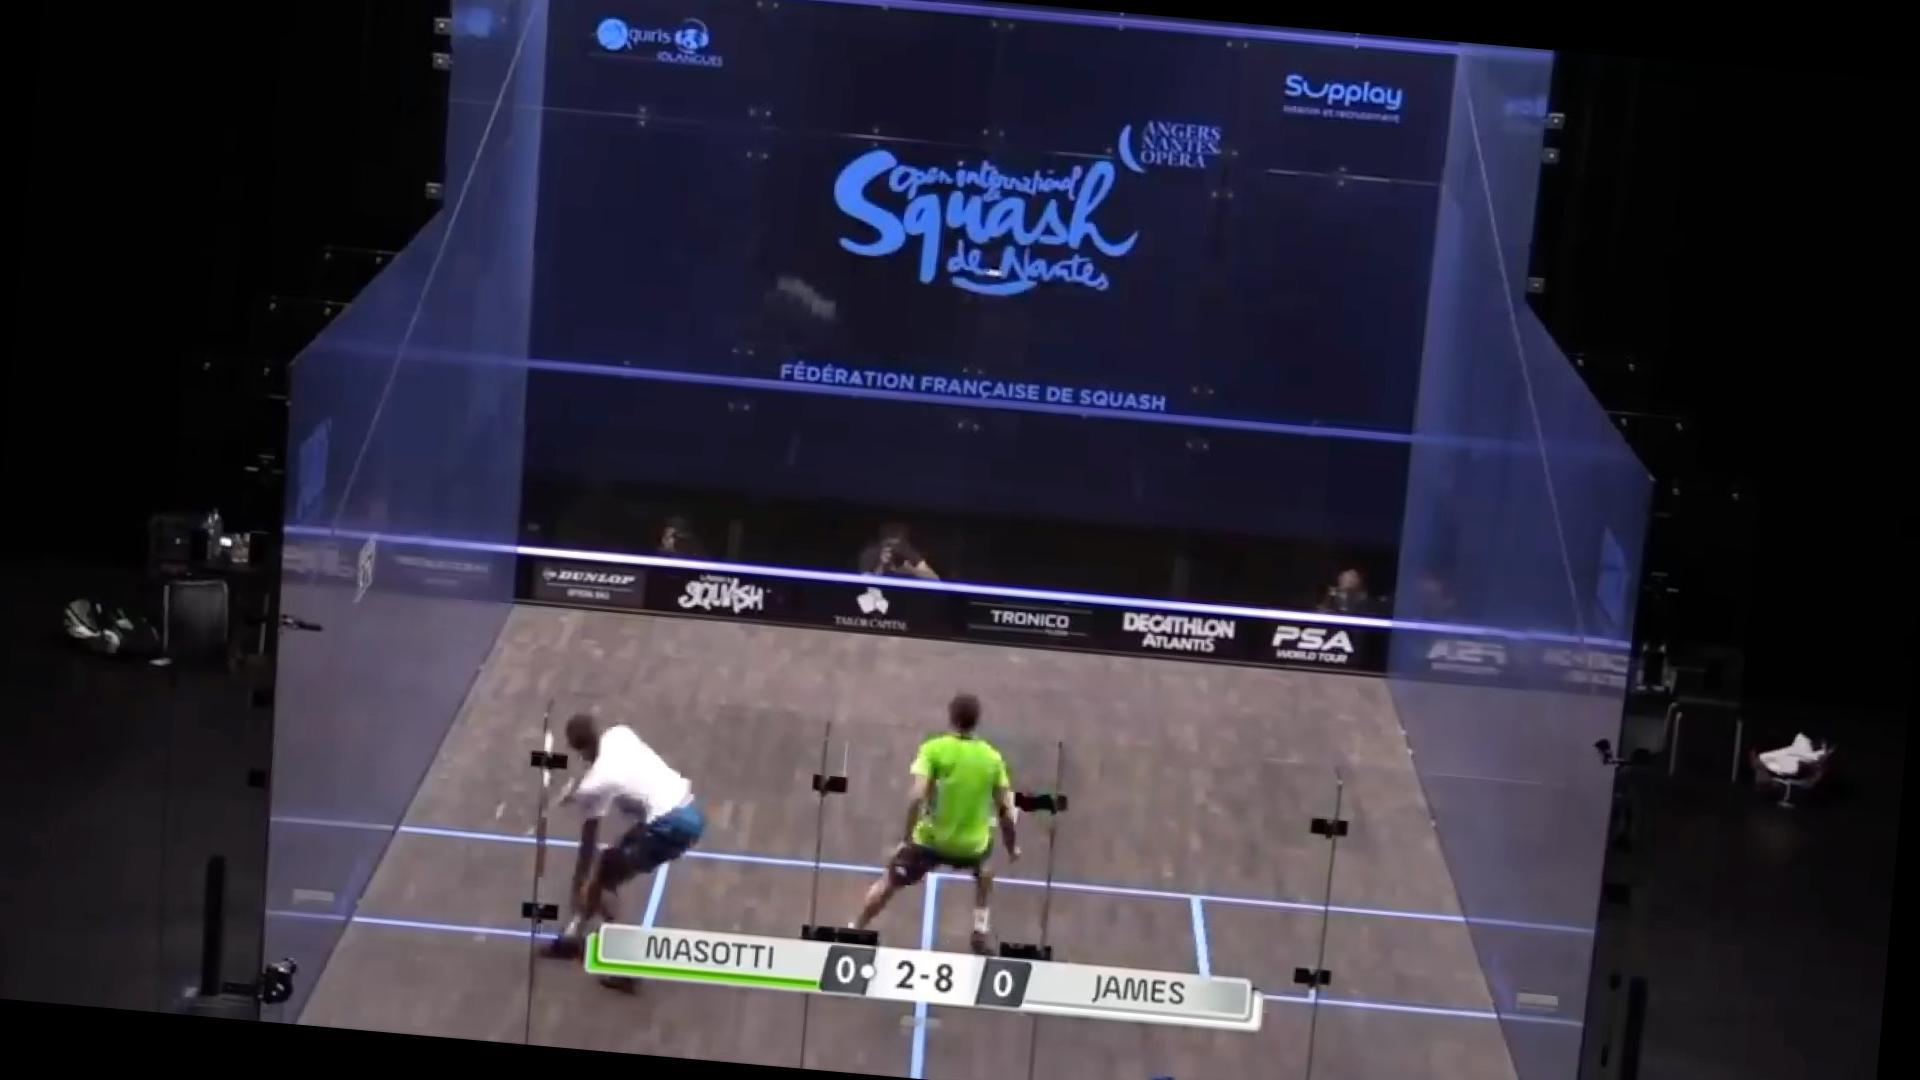Squash-Ball: (969, 248, 1018, 297)
